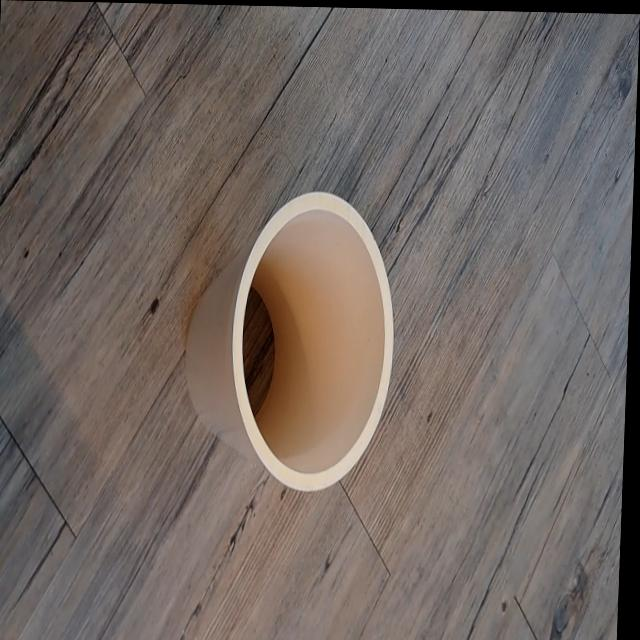CORAL: (162, 135, 425, 540)
